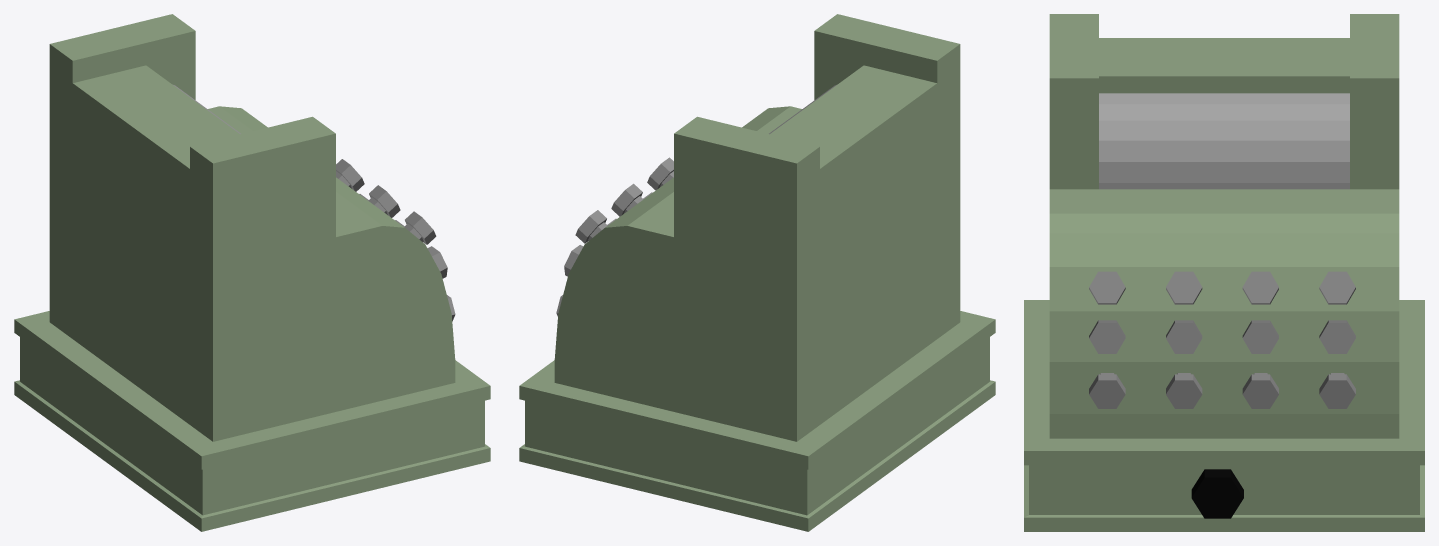
Rendered from CashRegister.fbx.
3 views of the same model, side by side, from view 1: azimuth 30°, elevation 25°; view 2: azimuth 150°, elevation 25°; view 3: azimuth 270°, elevation 25° (orthographic). The views are drawn at different scales.
Parts seen in each view (by area): view 1: Cube.008, Cylinder.009; view 2: Cube.008, Cylinder.009; view 3: Cube.008, Cube.015, Cylinder.009, Cylinder.004.
Part boxes in pixels (box(x1,y1,x2,y2)): Cube.008: box(14, 14, 490, 531); Cylinder.009: box(336, 159, 455, 321); Cube.008: box(519, 14, 995, 531); Cylinder.009: box(556, 157, 673, 316); Cube.008: box(1024, 14, 1424, 531); Cube.015: box(1099, 93, 1349, 189); Cylinder.009: box(1089, 271, 1355, 408); Cylinder.004: box(1191, 469, 1243, 518).
Size of the model in its own units: 16.16 by 17.74 by 16.99.
